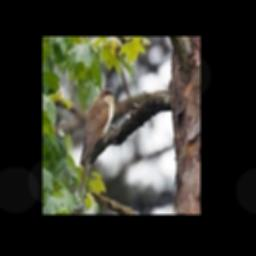Cuckoo: (78, 88, 117, 198)
